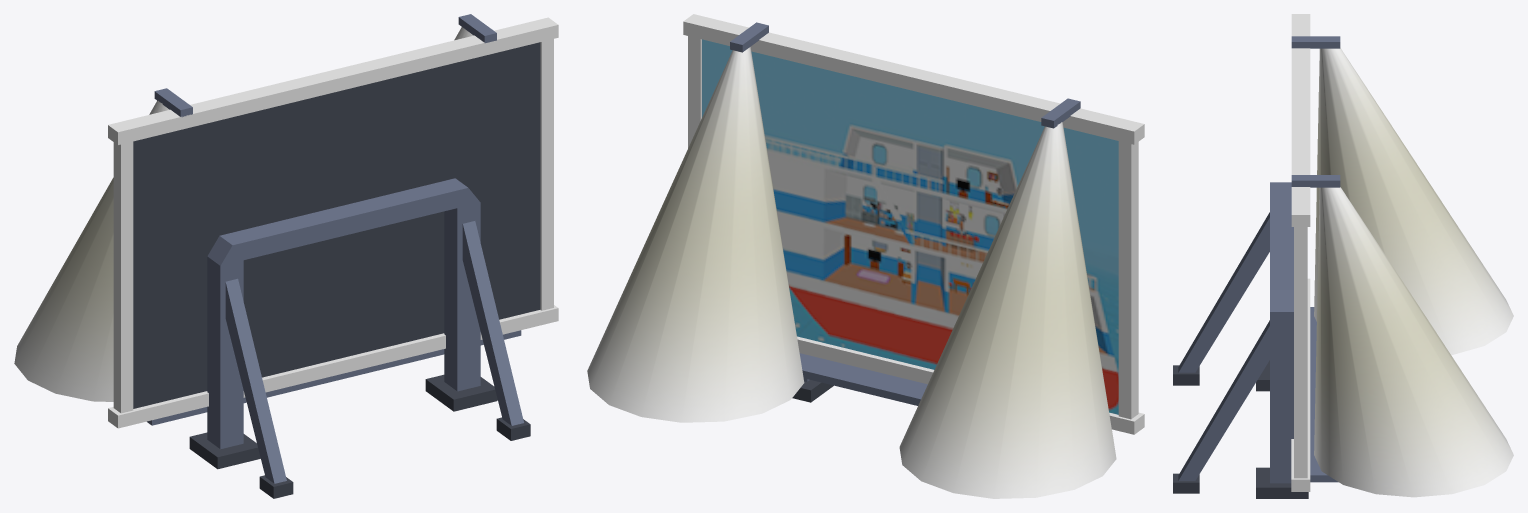
The model's file is Viveska01.fbx.
The picture shows the model from 3 angles, left to right: view 1: azimuth 30°, elevation 25°; view 2: azimuth 150°, elevation 25°; view 3: azimuth 270°, elevation 25°; orthographic projection. The views are drawn at different scales.
Visible parts, largest first — view 1: Viveska01, Viveska01 des.002, Viveska01 des, Viveska01 des.004, Viveska01 des.003, Viveska01 des.006, Viveska01 des.005, Viveska01 des.001, Viveska01 des root; view 2: Viveska01, Viveska01 des.003, Viveska01 des, Viveska01 des.004, Viveska01 des.006, Viveska01 des.001, Viveska01 des.005; view 3: Viveska01, Viveska01 des.002, Viveska01 des.005, Viveska01 des.006, Viveska01 des.001, Viveska01 des, Viveska01 des.004.
Boxes of the visible parts, x1,y1,x2,y2 form: Viveska01: (14, 14, 558, 498); Viveska01 des.002: (207, 181, 480, 426); Viveska01 des: (109, 99, 234, 284); Viveska01 des.004: (324, 142, 558, 377); Viveska01 des.003: (109, 243, 347, 428); Viveska01 des.006: (419, 18, 558, 185); Viveska01 des.005: (220, 72, 338, 230); Viveska01 des.001: (309, 48, 434, 275); Viveska01 des root: (207, 362, 511, 483); Viveska01: (587, 14, 1144, 498); Viveska01 des.003: (898, 224, 1143, 433); Viveska01 des: (1021, 96, 1143, 286); Viveska01 des.004: (688, 145, 920, 397); Viveska01 des.006: (684, 14, 824, 213); Viveska01 des.001: (810, 45, 919, 267); Viveska01 des.005: (915, 70, 1028, 226); Viveska01: (1173, 14, 1513, 498); Viveska01 des.002: (1270, 187, 1293, 394); Viveska01 des.005: (1291, 65, 1310, 112); Viveska01 des.006: (1291, 159, 1310, 317); Viveska01 des.001: (1291, 114, 1310, 158); Viveska01 des: (1291, 14, 1310, 64); Viveska01 des.004: (1291, 329, 1325, 479).
Bounding box in the file's own units: 5.24 × 3.57 × 3.38.
2 materials, 2 textured.
